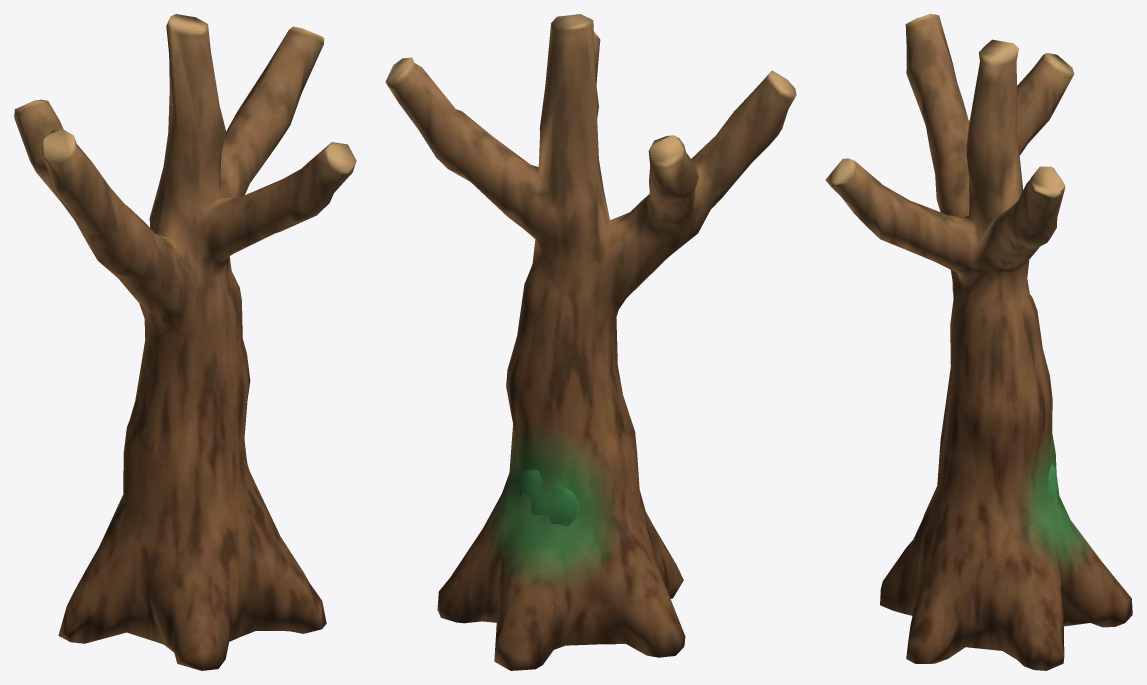
The model's file is dead-tree.glb.
3 renders of one model, left to right at view 1: azimuth 30°, elevation 25°; view 2: azimuth 150°, elevation 25°; view 3: azimuth 270°, elevation 25°, orthographic. The views are drawn at different scales.
Visible parts, largest first — view 1: wood; view 2: wood; view 3: wood.
Boxes of the visible parts, box(x1,y1,x2,y2) form: wood: box(14, 14, 356, 670); wood: box(385, 14, 796, 670); wood: box(825, 14, 1132, 670).
Size of the model in its own units: 1.7 by 2.85 by 1.39.
Materials: 1 (1 with a texture image).
